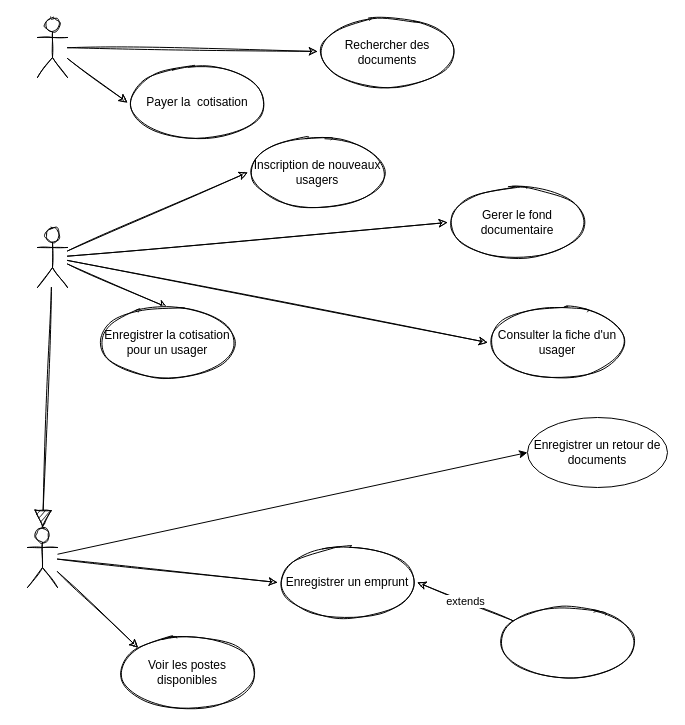
The diagram is 685 pixels wide and 725 high, and some of its shapes have lost their labels. Here are the shapes that lost their labels. From the top down, the centre of each, then its label:
At [52,47]: "Usager".
At [52,257]: "Personnel".
At [42,557]: "Benevole".
At [567,642]: "Enregistrer une caution".
